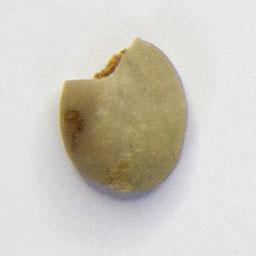defect: (57, 34, 192, 196)
